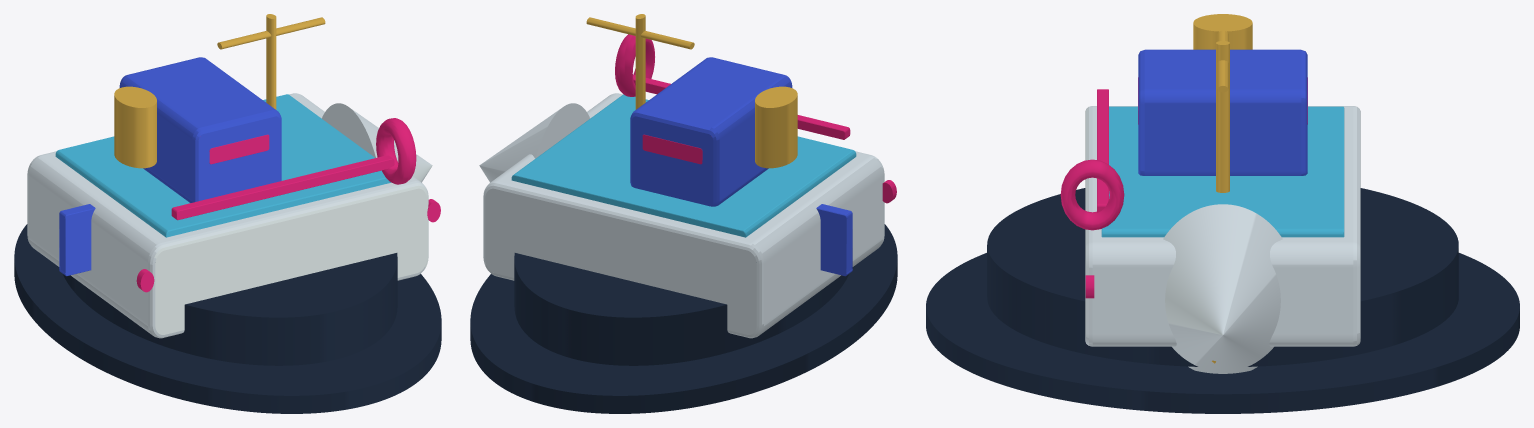
The model's file is 1162_海底两万里_船蛸.glb.
3 views of the same model, side by side, from view 1: azimuth 30°, elevation 25°; view 2: azimuth 150°, elevation 25°; view 3: azimuth 270°, elevation 25° (orthographic). The views are drawn at different scales.
Parts seen in each view (by area): view 1: card_1162; view 2: card_1162; view 3: card_1162.
Part boxes in pixels (x1=…): card_1162: x1=14, y1=14, x2=441, y2=413; card_1162: x1=470, y1=14, x2=897, y2=413; card_1162: x1=926, y1=14, x2=1519, y2=413.
Bounding box in the file's own units: 1.39 × 1 × 1.76.
